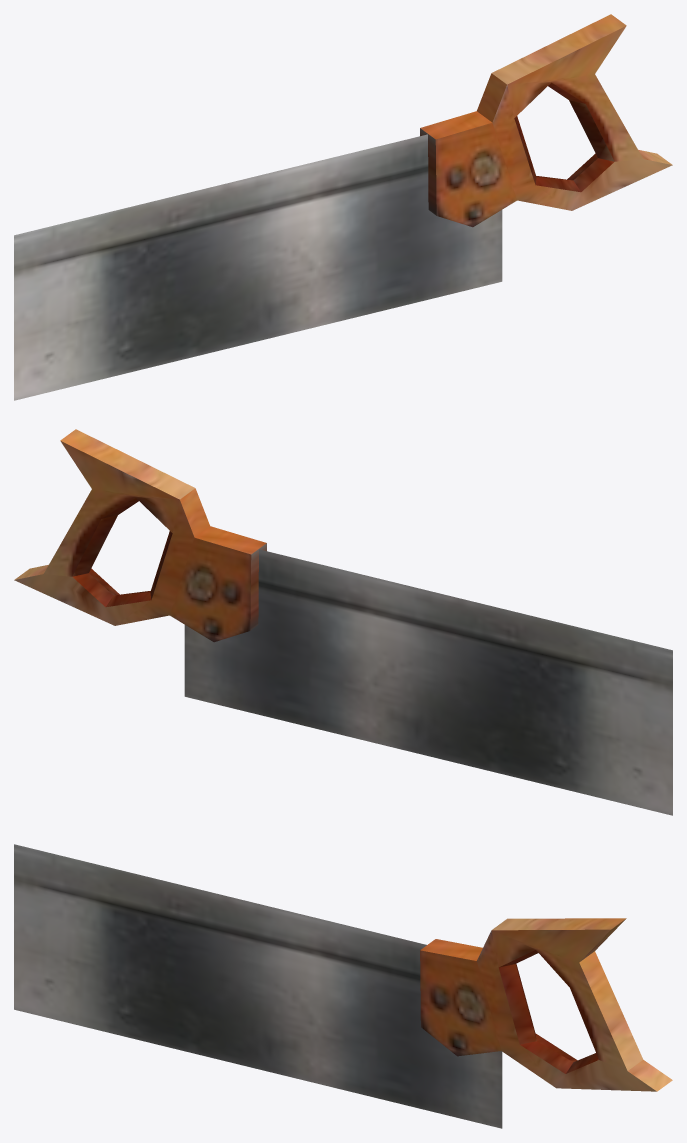
Rendered from BackSaw.obj.
3 views of the same model, one above another, from view 1: azimuth 30°, elevation 25°; view 2: azimuth 150°, elevation 25°; view 3: azimuth 330°, elevation 25° (orthographic).
Visible parts, largest first — view 1: BackSaw; view 2: BackSaw; view 3: BackSaw.
Boxes of the visible parts, x1=… form: BackSaw: x1=14, y1=14, x2=672, y2=400; BackSaw: x1=14, y1=429, x2=672, y2=815; BackSaw: x1=14, y1=844, x2=672, y2=1128.
Bounding box in the file's own units: 2.72 × 0.9313 × 0.1138.
1 material, 1 textured.
